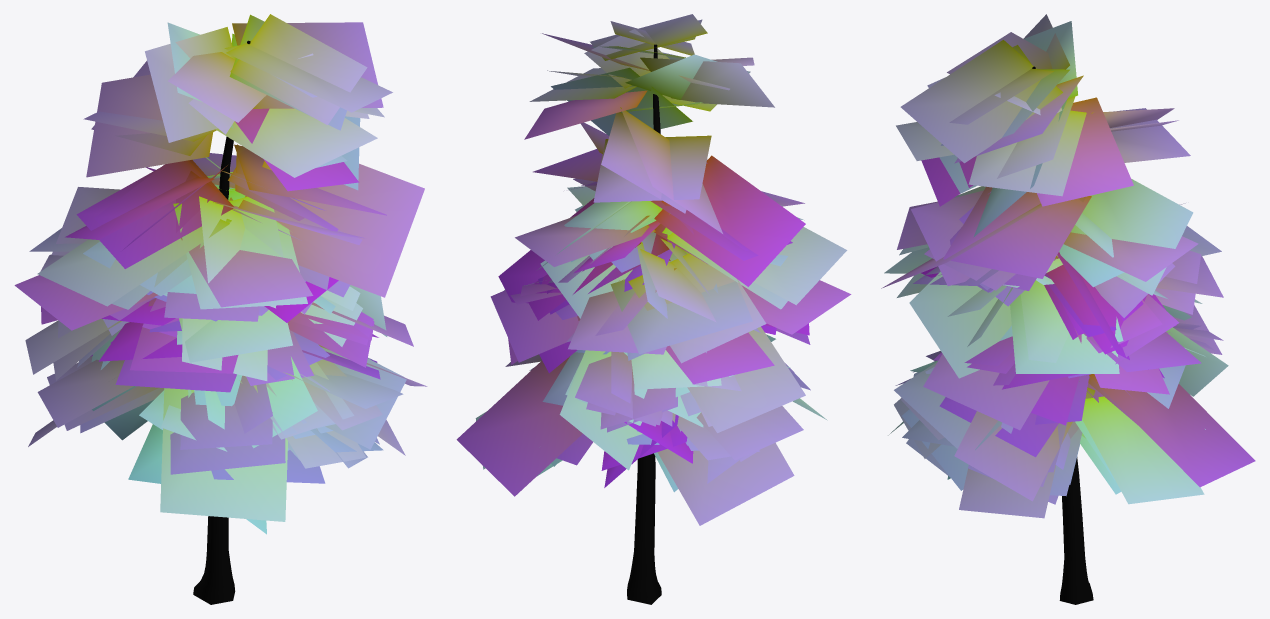
The model's file is tree_cedar_a_lod1.glb.
3 views of the same model, side by side, from view 1: azimuth 30°, elevation 25°; view 2: azimuth 150°, elevation 25°; view 3: azimuth 270°, elevation 25° (orthographic). The views are drawn at different scales.
Parts seen in each view (by area): view 1: tree_cedar_a_lod1; view 2: tree_cedar_a_lod1; view 3: tree_cedar_a_lod1.
Boxes of the visible parts, box(x1,y1,x2,y2) form: tree_cedar_a_lod1: box(14, 14, 427, 604); tree_cedar_a_lod1: box(456, 14, 851, 604); tree_cedar_a_lod1: box(881, 14, 1255, 604).
Size of the model in its own units: 16.35 by 25.97 by 15.97.
